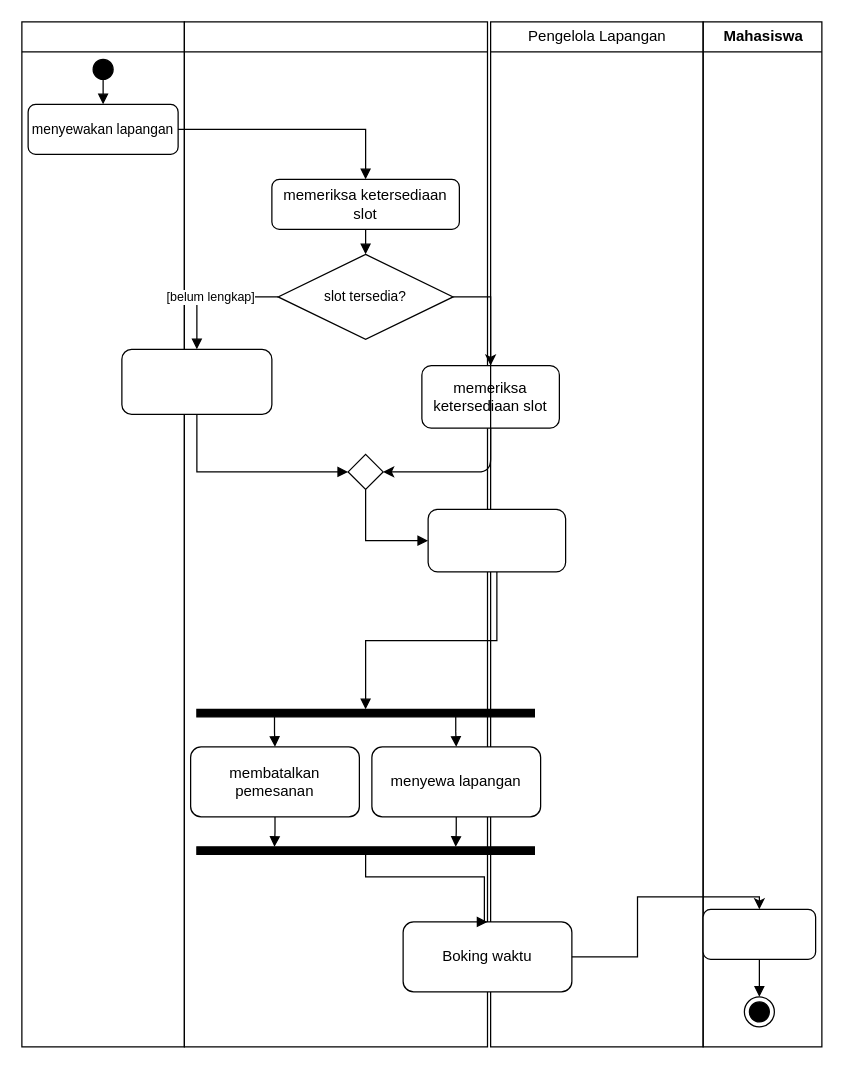
Image size: 844x1069. Some labels were removed from this diagram. The shapes that lost their labels are listed below. From the top down, each one's box as (x1, y1, x2, y2) in pixels, then its label:
(121, 348, 272, 414): melihat jadwal lapangan
(21, 21, 184, 1047): Kampus
(183, 21, 488, 1047): Sistem
(427, 508, 566, 572): melihat riwayat pemesanan
(702, 908, 816, 959): Pemesanan tercatat
